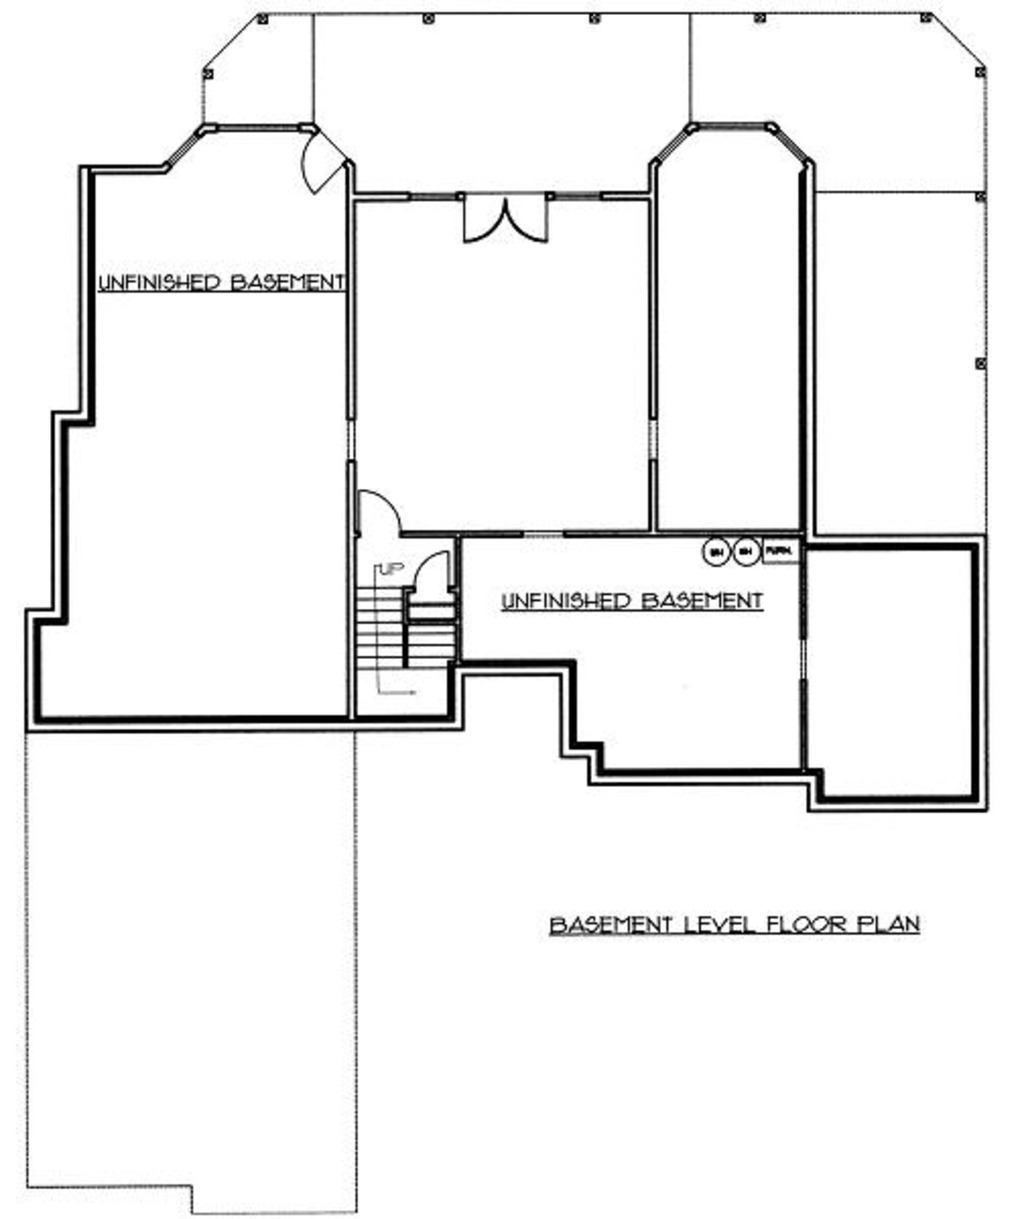door: (435, 175, 571, 262), (295, 124, 363, 206), (351, 482, 420, 546), (407, 540, 471, 604)
stairs: (339, 585, 469, 728)
window: (646, 107, 820, 179), (769, 619, 825, 694), (631, 407, 686, 482), (508, 511, 574, 564)
